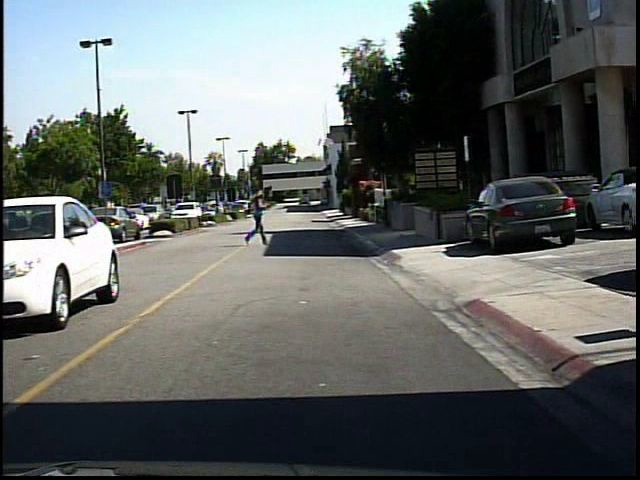person: (238, 186, 270, 249)
